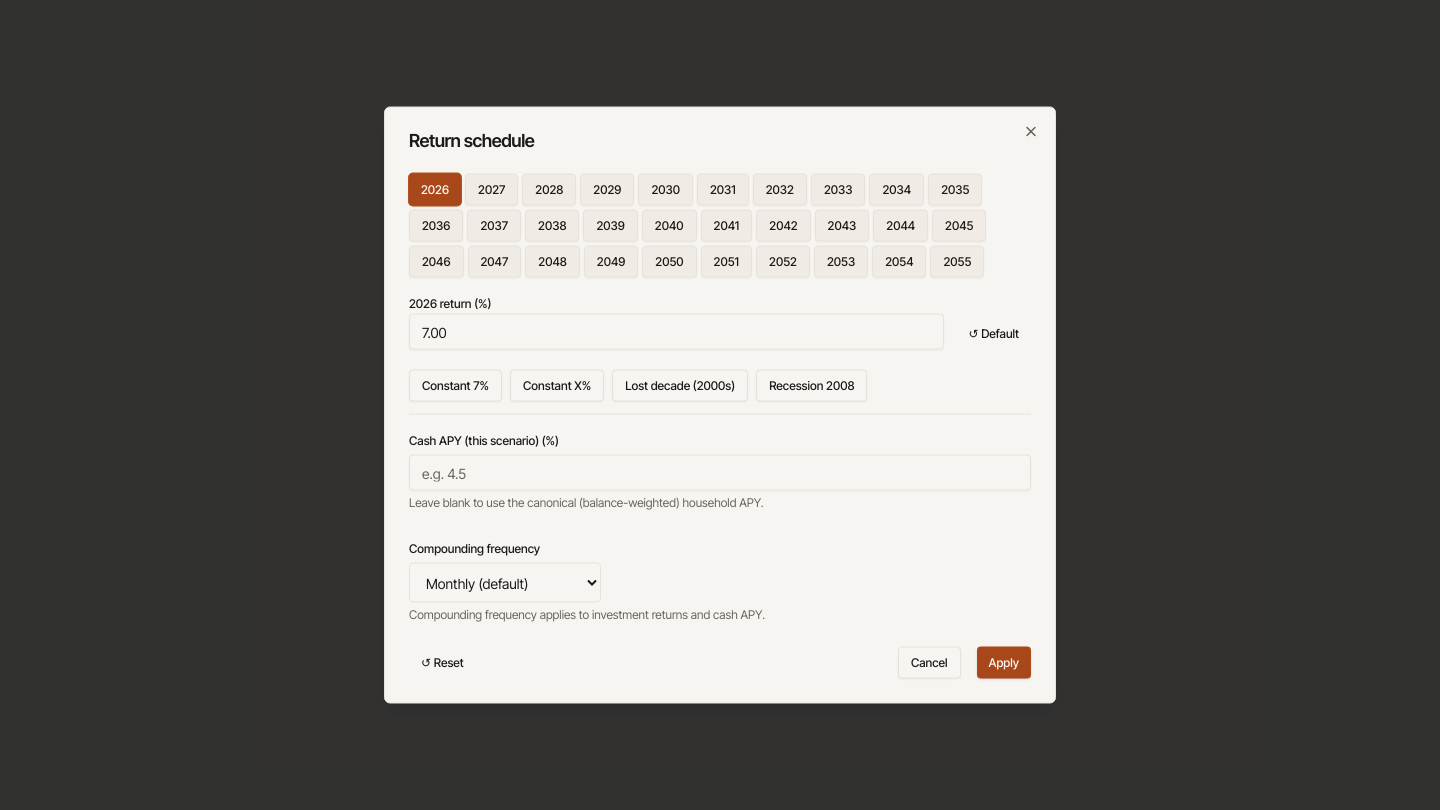
Test case: ReturnSchedulePopover — Cash APY override › Reset reverts the Cash APY input to the stored value
The image size is (1440, 810).
In the number field labelled "Cash APY (this scenario) (%)": (720, 472) [409,454,1031,490], type "8"
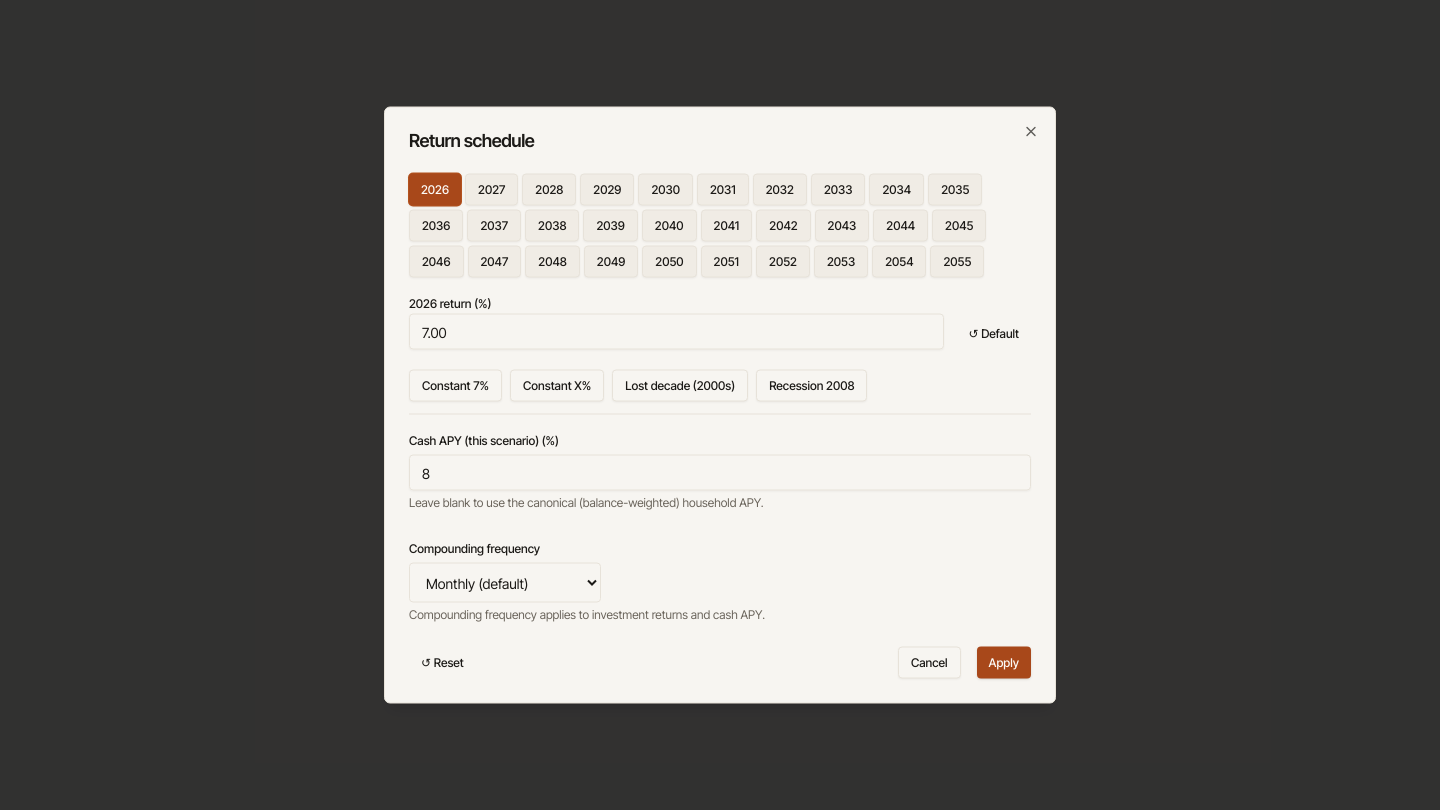
Click the button "↺ Reset": (442, 662) [409,646,476,678]
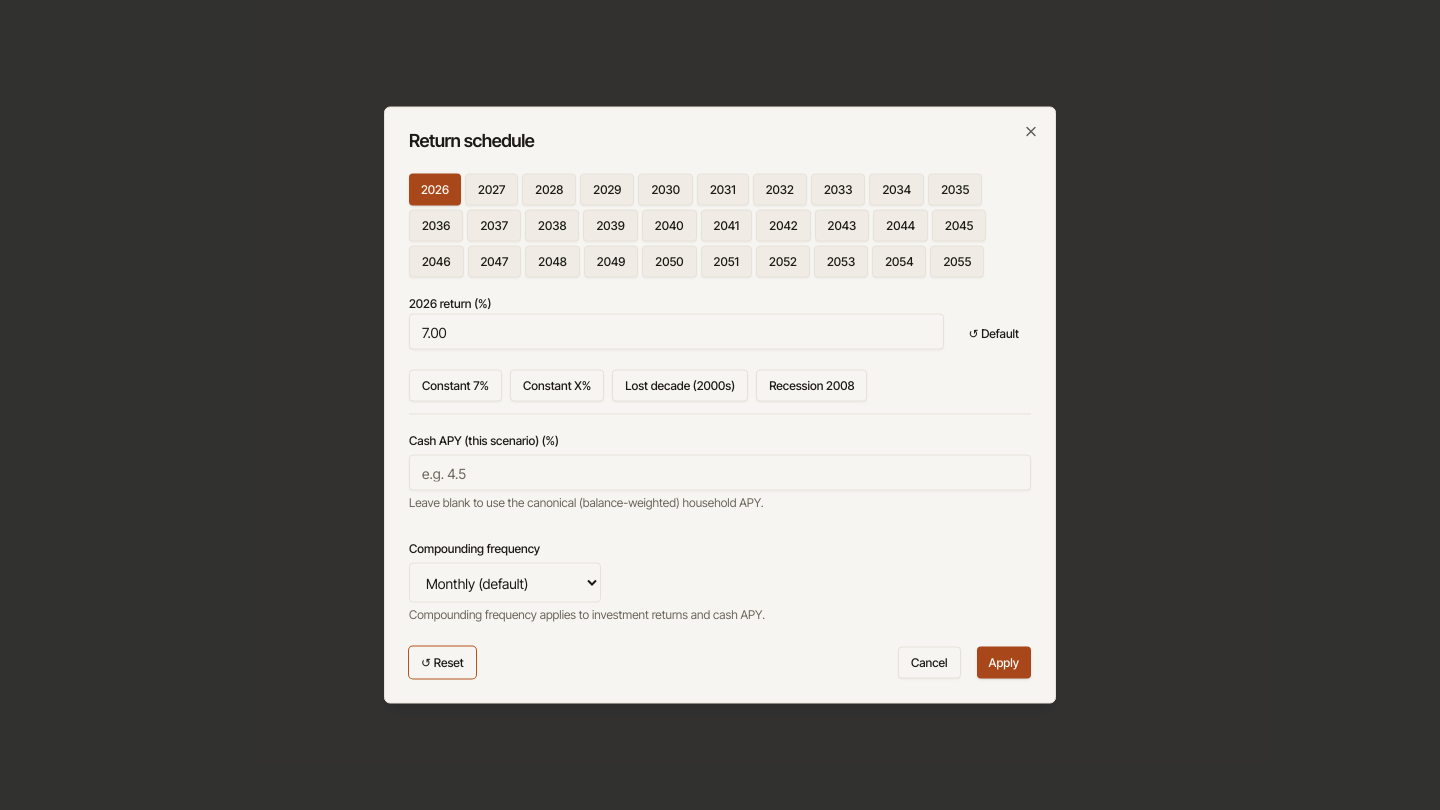
Expected: the number field labelled "Cash APY (this scenario) (%)" is empty, [409,454,1031,490]
